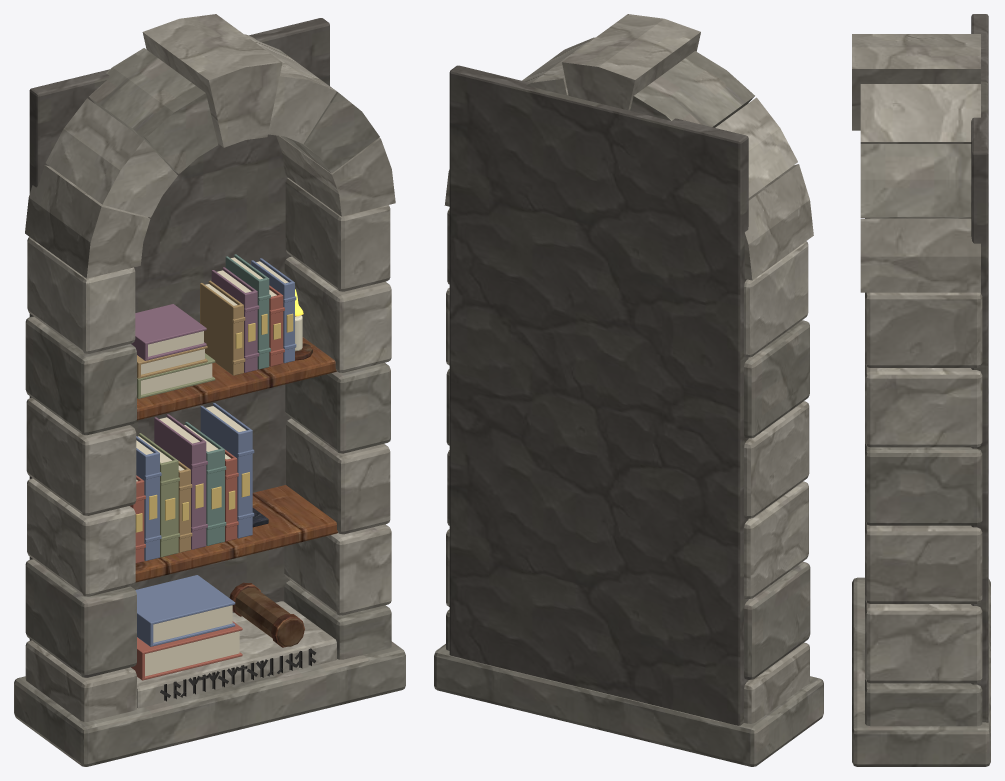
File: hm_book_nook.glb
3 renders of one model, left to right at view 1: azimuth 30°, elevation 25°; view 2: azimuth 150°, elevation 25°; view 3: azimuth 270°, elevation 25°, orthographic. The views are drawn at different scales.
Parts seen in each view (by area): view 1: model; view 2: model; view 3: model.
Boxes of the visible parts, x1,y1,x2,y2 form: model: (14, 14, 405, 766); model: (434, 14, 823, 766); model: (852, 14, 990, 766).
Size of the model in its own units: 0.84 by 1.64 by 0.32.
Materials: 21 (8 with a texture image).
